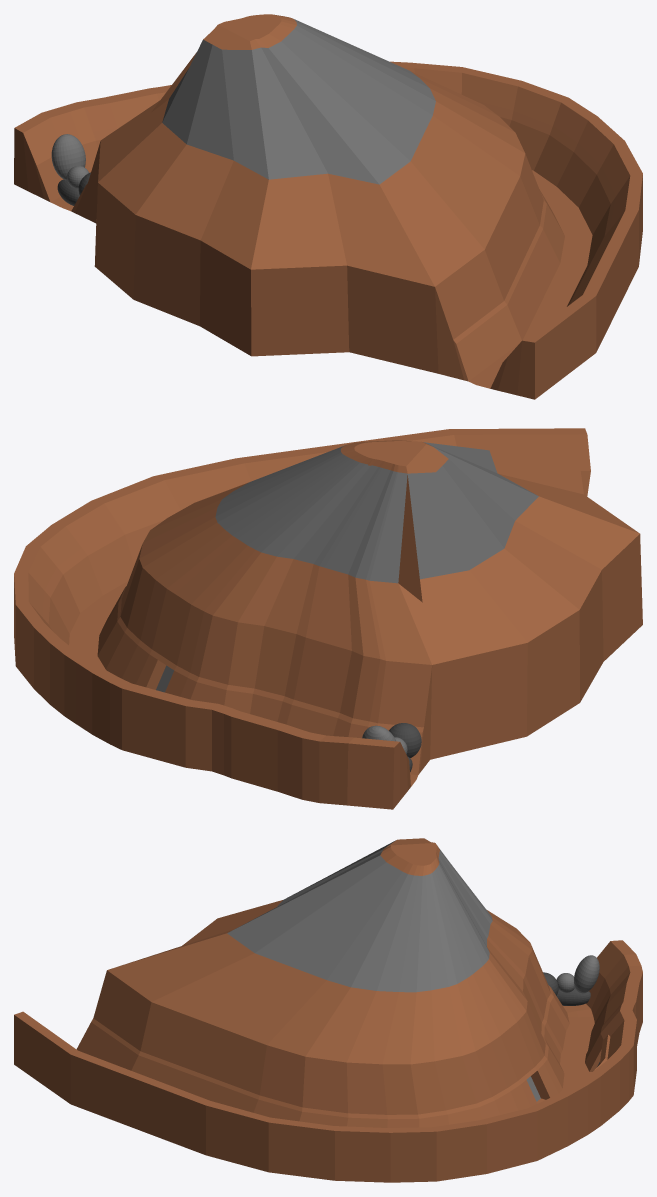
File: Map3.fbx
3 views of the same model, one above another, from view 1: azimuth 30°, elevation 25°; view 2: azimuth 150°, elevation 25°; view 3: azimuth 270°, elevation 25° (orthographic). The views are drawn at different scales.
Visible parts, largest first — view 1: Plane, Sphere.003; view 2: Plane, Sphere.001; view 3: Plane, Sphere.003.
Part boxes in pixels (<box>): Plane: <box>14,14,642,399</box>; Sphere.003: <box>51,134,85,180</box>; Plane: <box>14,428,642,809</box>; Sphere.001: <box>389,723,421,757</box>; Plane: <box>14,838,642,1182</box>; Sphere.003: <box>574,955,599,993</box>.
Size of the model in its own units: 31917 by 14242 by 41766.
